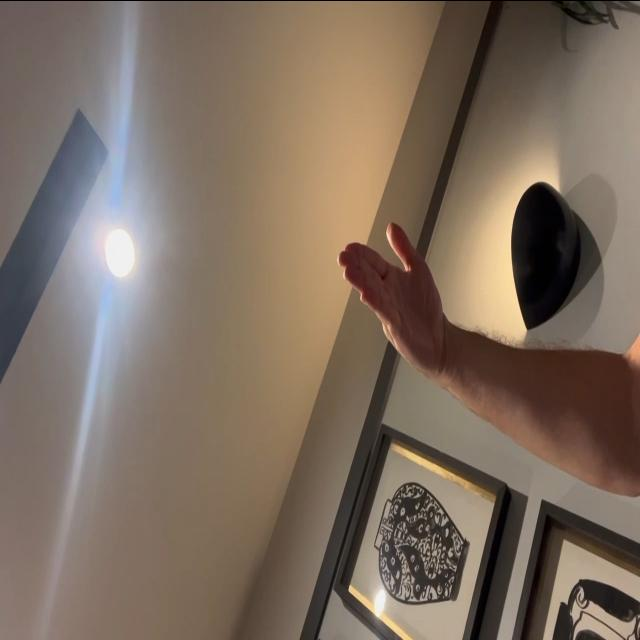Paper: (336, 213, 442, 375)
